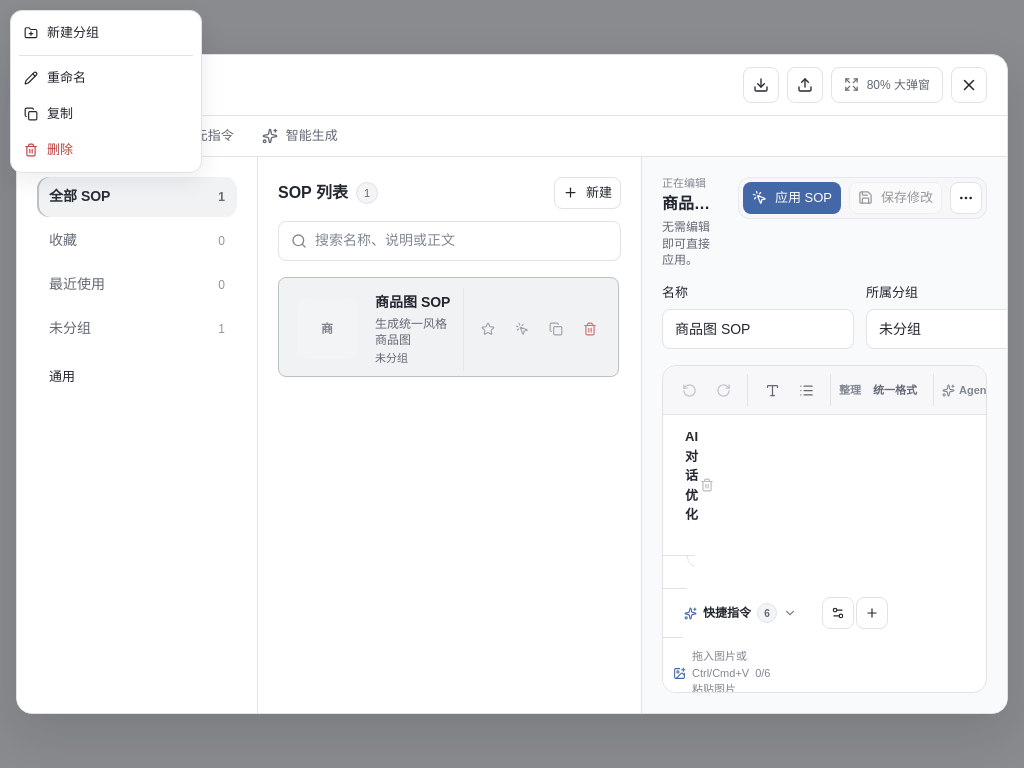
SopManagementCenter apply and save actions › selects and renames a duplicated group
(page scrolled)
Click the menu item "复制" at (106, 114), box [15,96,197,132]
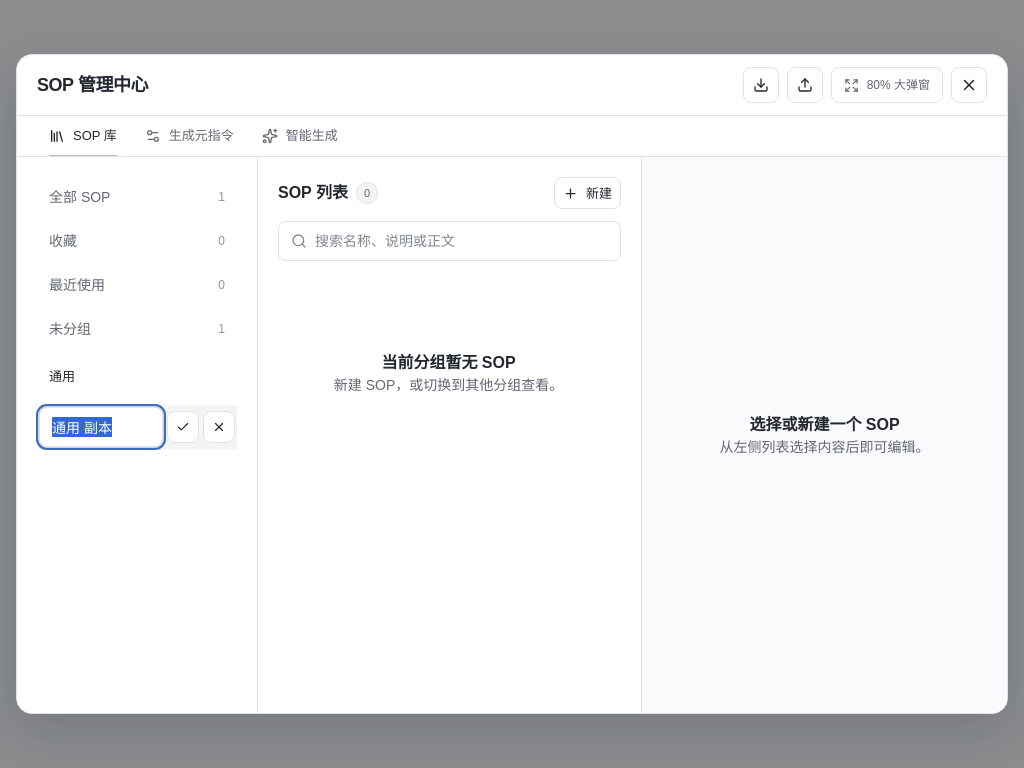
Check: the field named "重命名分组" holds "通用 副本", box [39,407,163,447]
